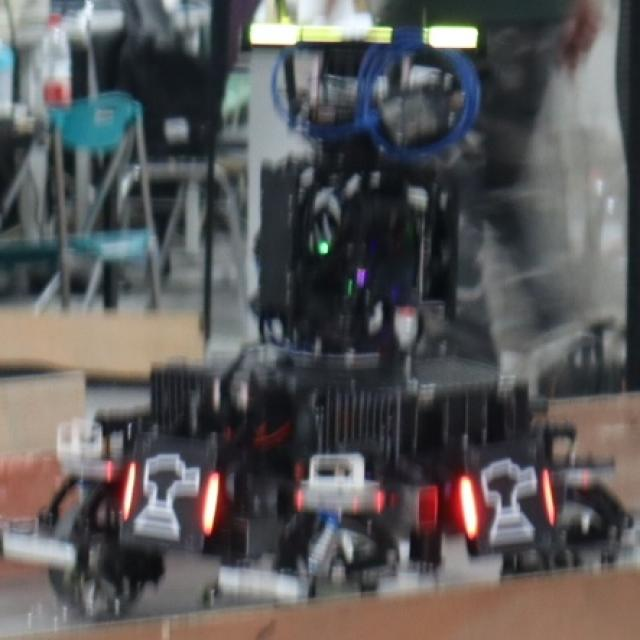Rs: (117, 451, 221, 541), (460, 457, 558, 552)
